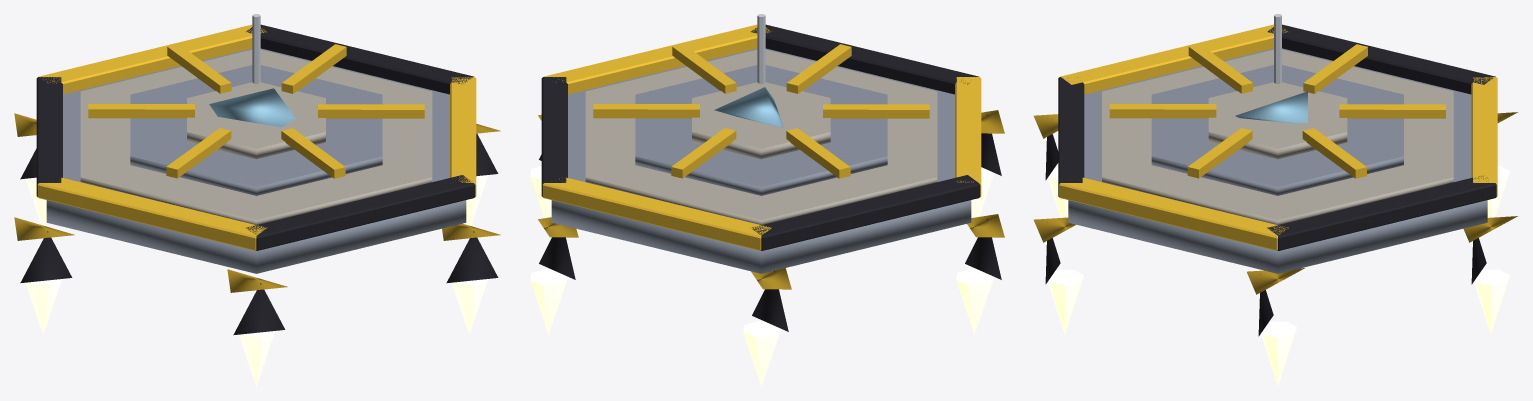
The model's file is aegis_platform.glb.
The picture shows the model from 3 angles, left to right: view 1: azimuth 30°, elevation 25°; view 2: azimuth 150°, elevation 25°; view 3: azimuth 270°, elevation 25°; orthographic projection.
Parts seen in each view (by area): view 1: aegis_platform; view 2: aegis_platform; view 3: aegis_platform.
Boxes of the visible parts, box(x1,y1,x2,y2) form: aegis_platform: box(14, 14, 500, 386); aegis_platform: box(530, 14, 1004, 386); aegis_platform: box(1033, 14, 1517, 386).
Bounding box in the file's own units: 66.98 × 36 × 59.17.
Materials: 1 (1 with a texture image).
